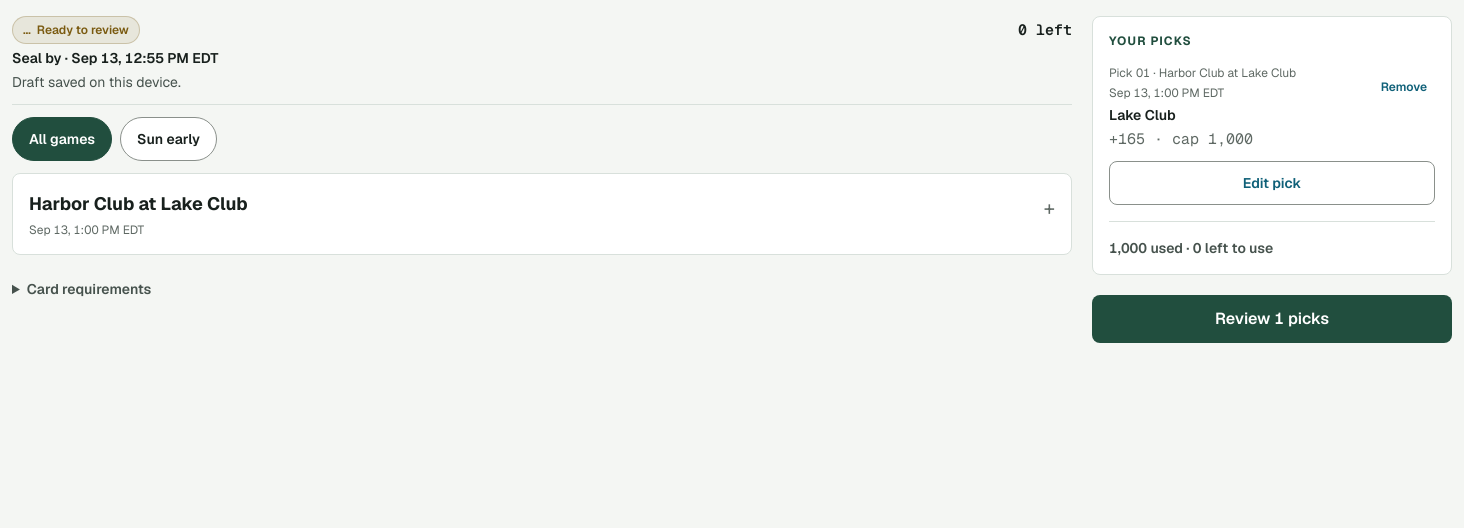
authenticated card editor › reviews a freshly fetched unchanged price without relabeling its old source time
Step 1. Click the button "Review 1 picks" → (1272, 319), box [1092, 295, 1452, 343]
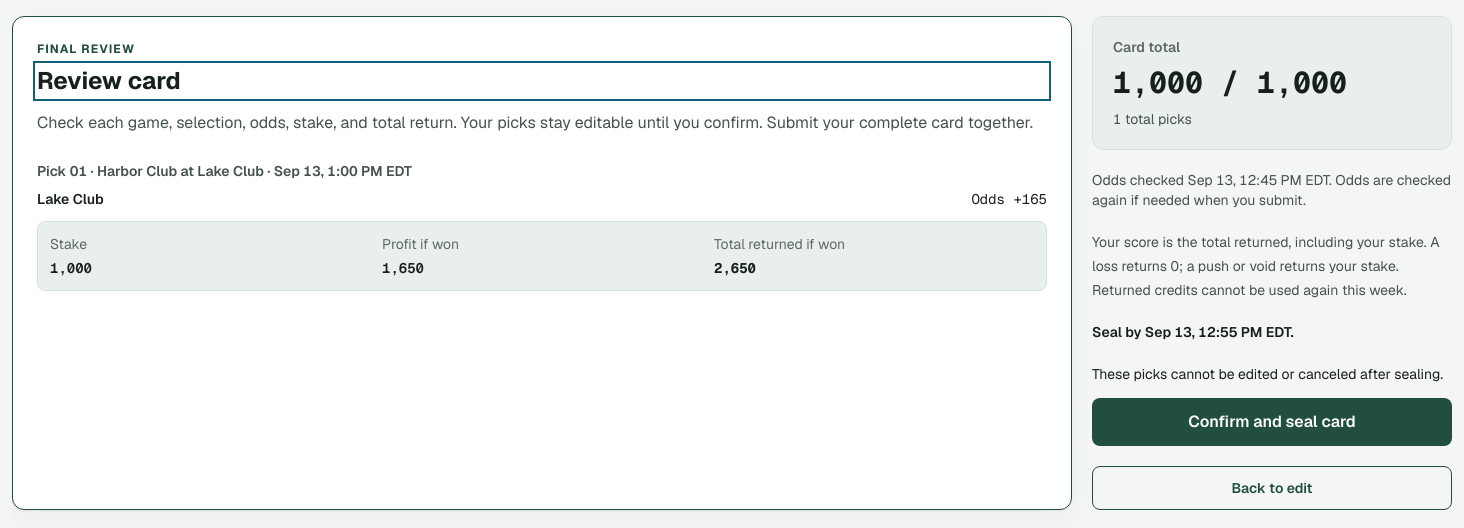
Check: the button "Confirm and seal card" is enabled, box [1092, 398, 1452, 446]
Check: the form named "reviewId" holds "10000000-0000-4000-8000-000000000099", box [1092, 362, 1452, 446]
